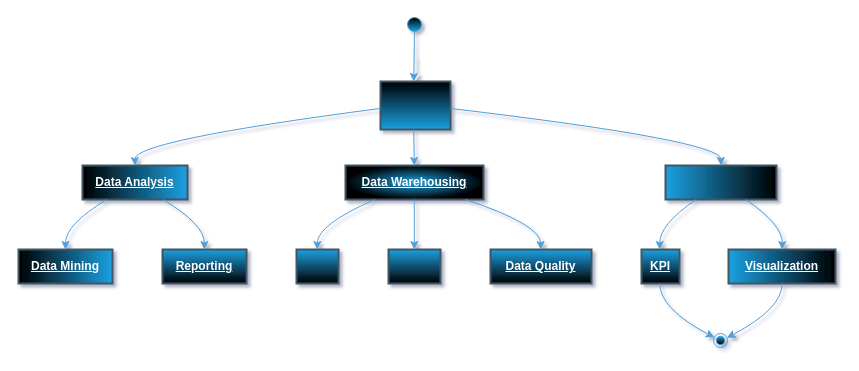
This 859x371 diagram has some shape labels left out. The shapes that lost their labels are listed below. From the top down, each one's centre as x and y in pixels, then its label:
At point (415, 105): "ME REPORT PROJECT".
At point (720, 182): "Dashboarding".
At point (317, 266): "ETL".
At point (414, 266): "OLAP".
